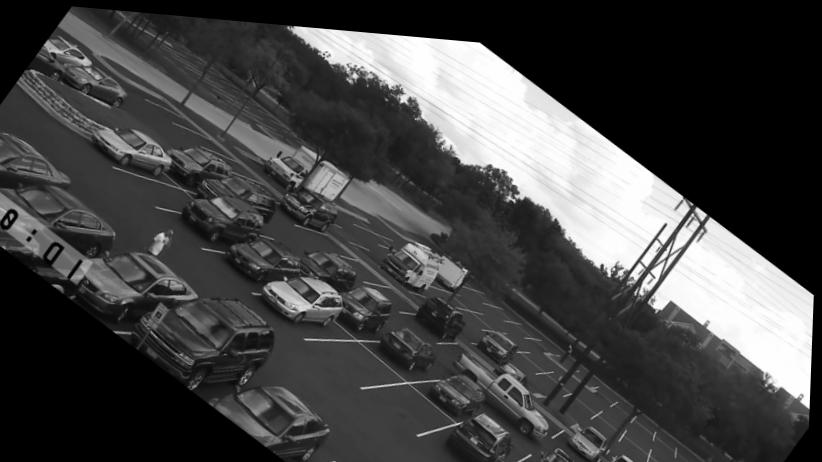empty: (310, 339, 403, 385), (376, 377, 455, 421), (115, 169, 194, 207), (513, 388, 568, 430), (161, 103, 208, 134), (300, 221, 352, 249), (341, 249, 389, 277), (497, 406, 536, 440), (442, 336, 490, 361), (186, 127, 230, 153), (220, 150, 261, 175), (619, 422, 651, 454), (377, 275, 416, 300), (563, 384, 602, 408), (359, 219, 401, 241), (534, 362, 573, 385), (592, 404, 625, 430), (264, 218, 301, 240), (600, 395, 629, 422), (550, 359, 584, 382), (458, 299, 493, 321), (652, 433, 679, 460), (627, 413, 654, 440), (610, 388, 641, 411), (433, 279, 468, 298), (576, 379, 607, 400), (527, 340, 559, 360), (517, 342, 547, 363), (647, 442, 678, 462), (635, 401, 658, 427), (479, 301, 509, 320), (594, 375, 622, 395), (506, 323, 537, 340), (456, 283, 487, 300), (656, 419, 679, 440), (530, 327, 564, 341), (469, 278, 497, 294), (462, 308, 482, 330), (679, 436, 697, 458), (507, 312, 537, 325), (489, 296, 516, 309), (526, 364, 545, 381), (701, 451, 717, 462), (679, 453, 694, 462), (649, 456, 664, 462)
occupied: (118, 294, 274, 384), (204, 377, 345, 450), (57, 251, 203, 310), (0, 183, 116, 249), (260, 269, 344, 325), (440, 403, 515, 462), (187, 189, 265, 243), (365, 316, 444, 369), (90, 125, 172, 173), (0, 132, 70, 183), (221, 234, 300, 276), (278, 175, 339, 227), (380, 234, 444, 283), (209, 170, 277, 213), (61, 62, 127, 106), (426, 365, 486, 409), (412, 287, 468, 334), (300, 243, 358, 286), (343, 279, 394, 327), (170, 143, 232, 182), (488, 353, 532, 388), (479, 320, 520, 355), (569, 415, 609, 450), (27, 44, 65, 80), (545, 438, 578, 462), (606, 443, 641, 462)
